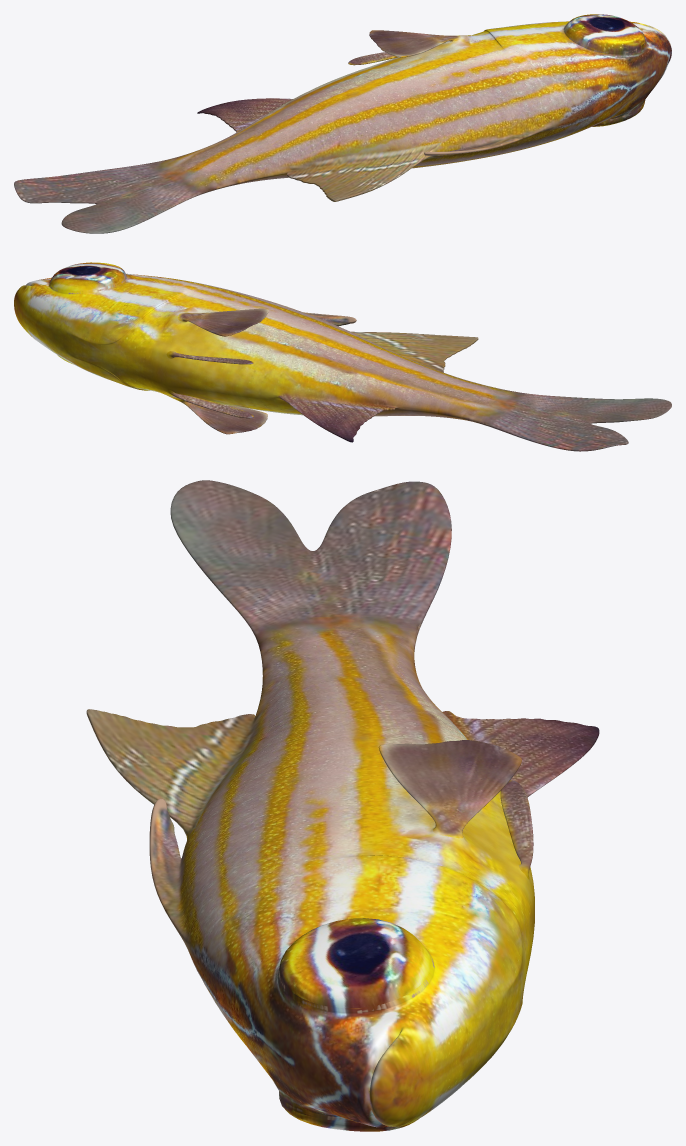
Rendered from fish.obj.
The picture shows the model from 3 angles, top to bottom: view 1: azimuth 30°, elevation 25°; view 2: azimuth 150°, elevation 25°; view 3: azimuth 270°, elevation 25°; orthographic projection. The views are drawn at different scales.
Visible parts, largest first — view 1: 13012_Orange_Lined_Cardinalfish; view 2: 13012_Orange_Lined_Cardinalfish; view 3: 13012_Orange_Lined_Cardinalfish.
Boxes of the visible parts, x1,y1,x2,y2 form: 13012_Orange_Lined_Cardinalfish: (14, 14, 671, 233); 13012_Orange_Lined_Cardinalfish: (14, 262, 671, 451); 13012_Orange_Lined_Cardinalfish: (86, 480, 599, 1131).
Bounding box in the file's own units: 2.08 × 0.35 × 0.7555.
1 material, 1 textured.
